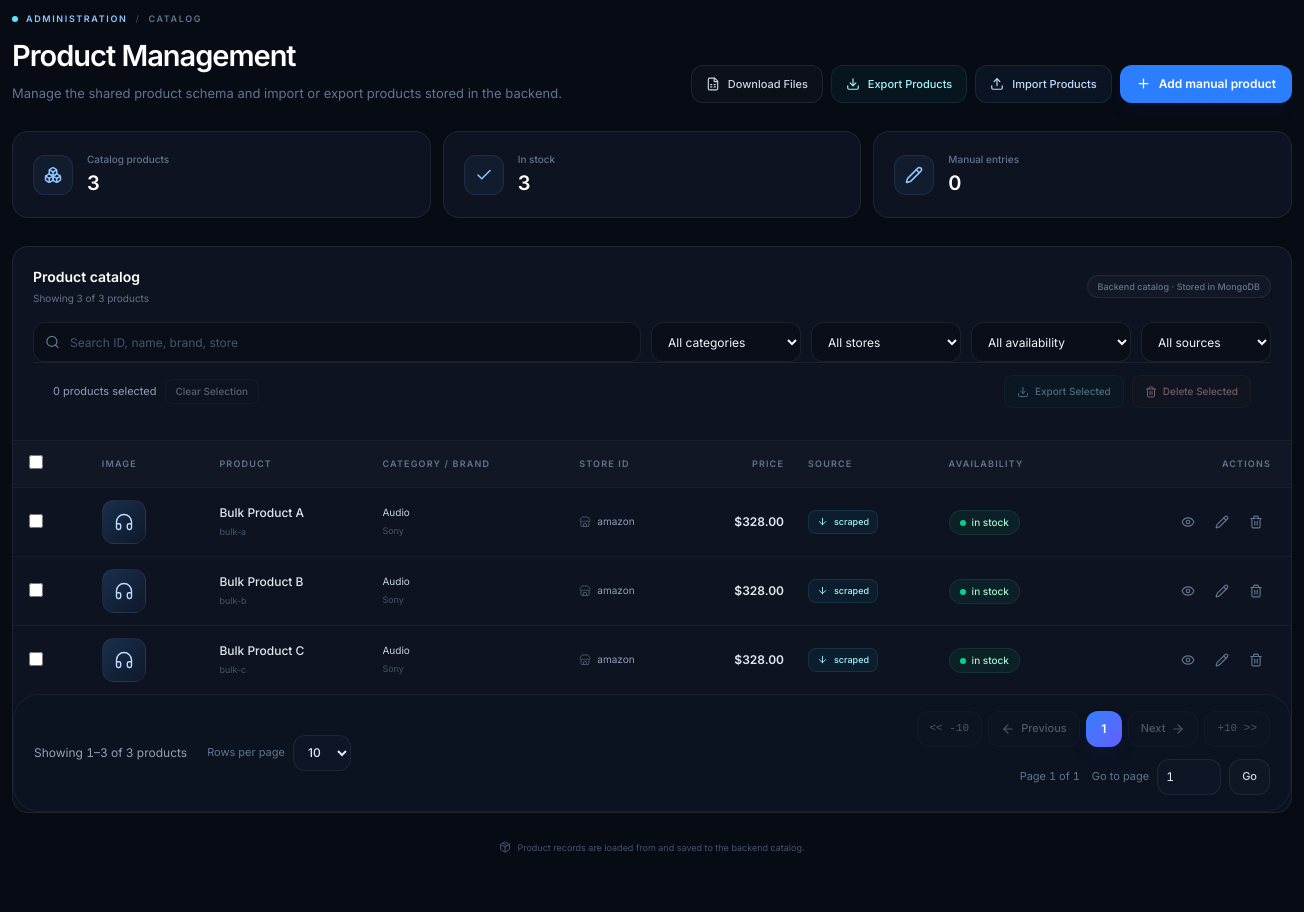
Test: admin and shared user pages › drops hidden selections when products are filtered
The width and height of the screenshot is (1304, 912).
Step 1. Click the checkbox named "Select bulk-a" → (36, 520), box [29,514,43,528]
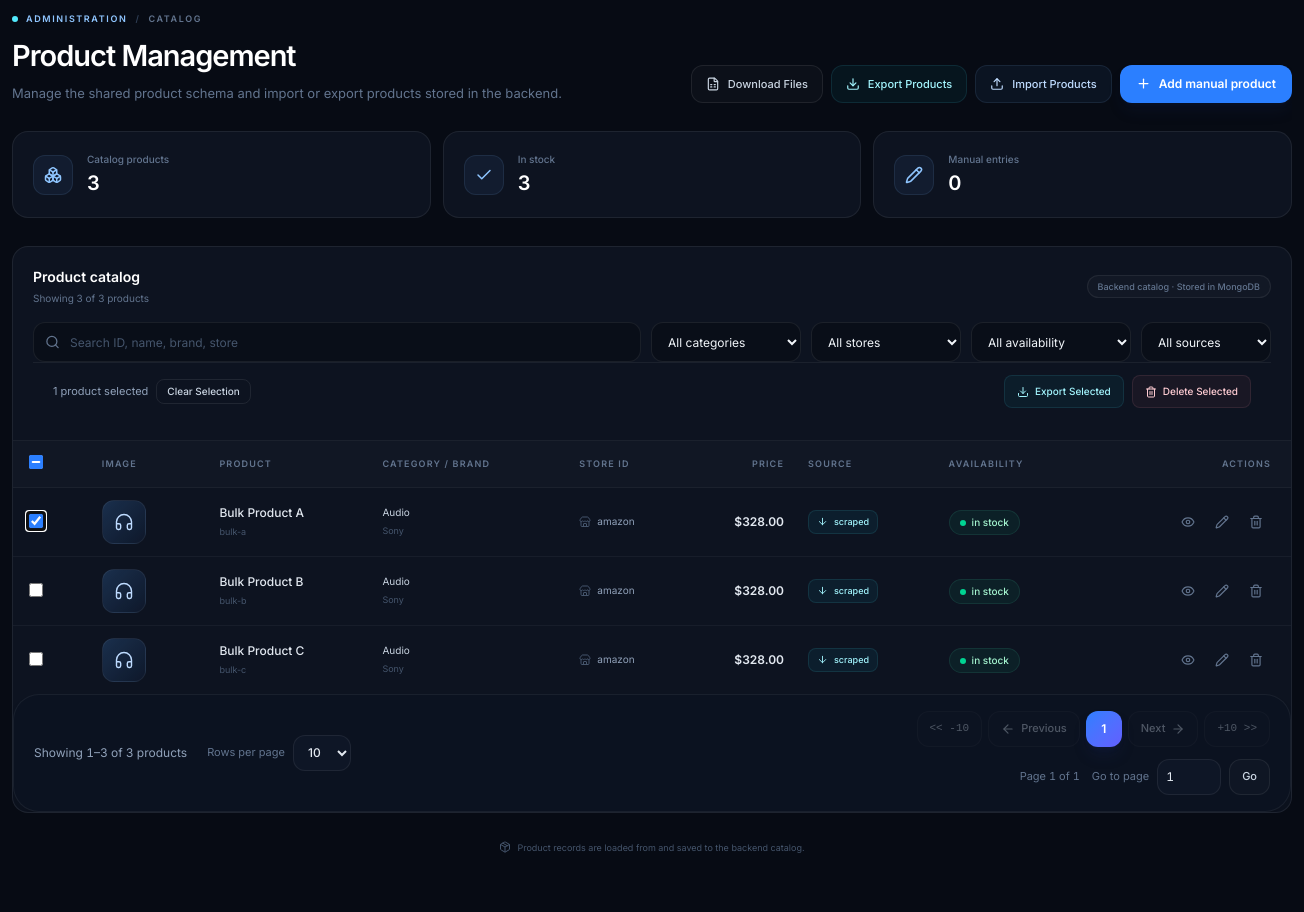
Now the text "1 product selected" is shown, box [53,383,148,400]
Step 2. Type "Bulk Product C" into the search field named "Search products" → (337, 342), box [33,322,641,362]
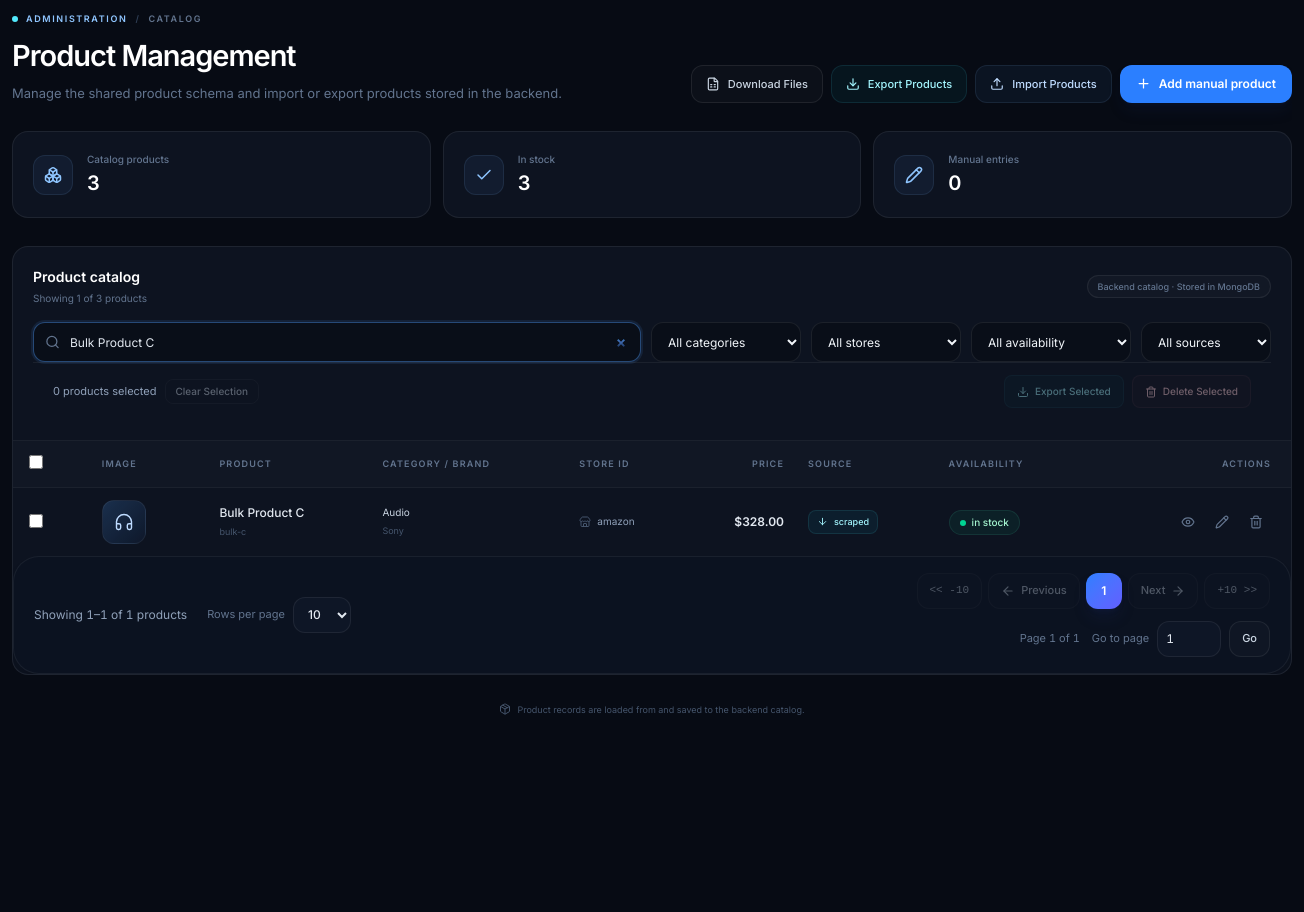
Expected: the checkbox named "Select bulk-c" is shown, [29,514,43,528]
Now the text "0 products selected" is shown, box [53,383,156,400]
Now the button "Delete Selected" is disabled, box [1132,375,1251,408]
